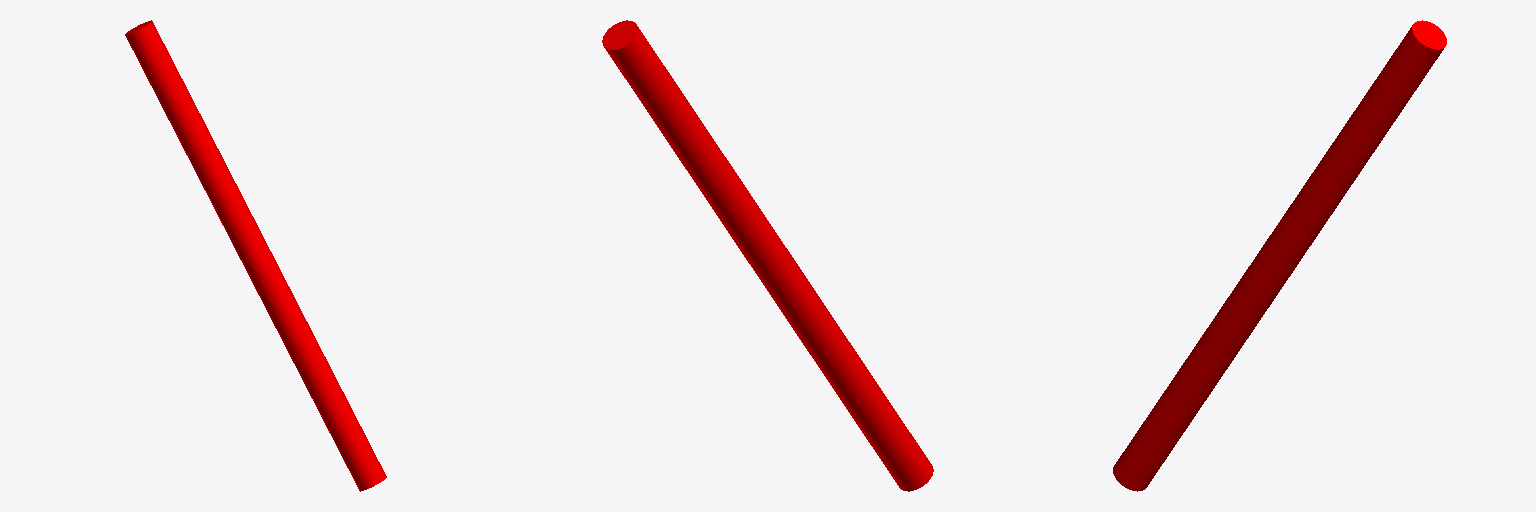
URDF robot description (tree_38.urdf):
<?xml version='1.0' encoding='utf-8'?>
<robot name="tree_38.urdf">
  <link name="branch_0">
    <inertial>
      <origin xyz="0.0 0.0 0.0" rpy="0.0 -0.0 0.0" />
      <mass value="1.0" />
      <inertia ixx="1.0" ixy="0.0" ixz="0.0" iyy="1.0" iyz="0.0" izz="1.0" />
    </inertial>
    <visual name="branch_0_visual">
      <geometry>
        <cylinder radius="0.0684302979717746" length="2.30032201658714" />
      </geometry>
      <material name="semantic_material" />
      <origin xyz="0.28862559723281067 0.5213313795312826 0.9837576949314777" rpy="-5.551115123125783e-17 0.5446248355326283 1.0651691106853343" />
    </visual>
    <collision name="branch_0_collision">
      <geometry>
        <cylinder radius="0.0684302979717746" length="2.30032201658714" />
      </geometry>
      <origin xyz="0.28862559723281067 0.5213313795312826 0.9837576949314777" rpy="-5.551115123125783e-17 0.5446248355326283 1.0651691106853343" />
    </collision>
  </link>
  <material name="semantic_material">
    <color rgba="1. 0. 0. 1." />
  </material>
</robot>

--- Facts derived from the render (not from the file) ---
3 views of the same robot in one strip: view 1: azimuth 90°, elevation 25°; view 2: azimuth 150°, elevation 25°; view 3: azimuth 270°, elevation 25° (orthographic).
Model tree_38.urdf with 1 links and 0 joints (none), rooted at branch_0, posed every joint at zero.
Visible links, largest first — view 1: branch_0; view 2: branch_0; view 3: branch_0.
Boxes of the visible links, x1=… form: branch_0: x1=125, y1=20, x2=386, y2=491; branch_0: x1=602, y1=20, x2=933, y2=491; branch_0: x1=1113, y1=20, x2=1446, y2=491.
Bounding box of the posed robot: 0.7096 × 1.16 × 2.04 m (x, y, z).
Geometry: primitives only (box / cylinder / sphere), no mesh files.